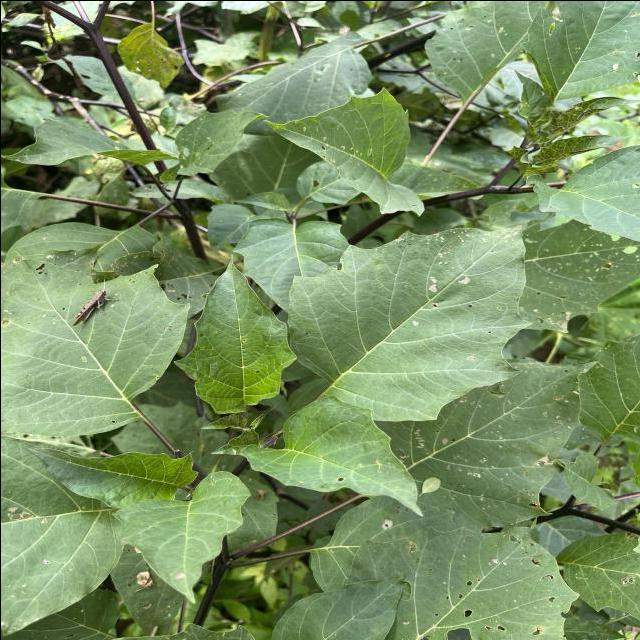Datura metal linn: (281, 218, 534, 424), (254, 81, 430, 220), (238, 388, 424, 518), (168, 248, 299, 420), (105, 466, 255, 605), (23, 444, 202, 508)
